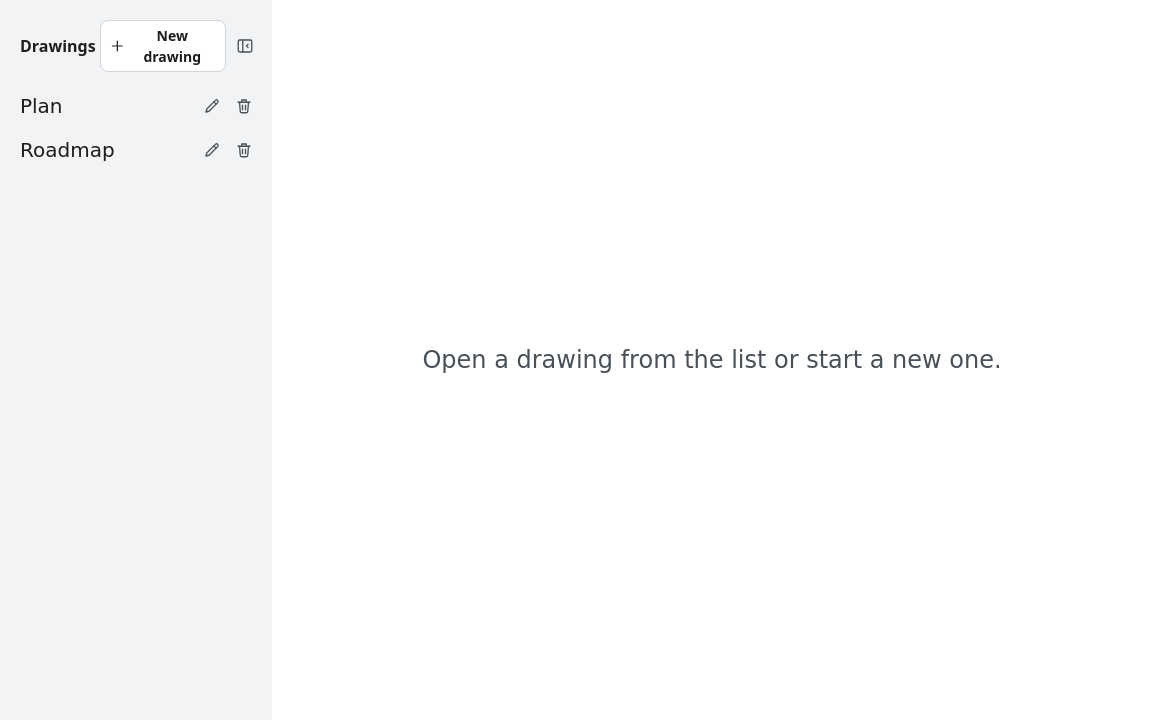
Test case: App › shows a renamed drawing under its new name
This screenshot has width=1152, height=720.
Click the button named "Rename Plan". click: (212, 106)
box: top-left (196, 90), bottom-right (228, 122)
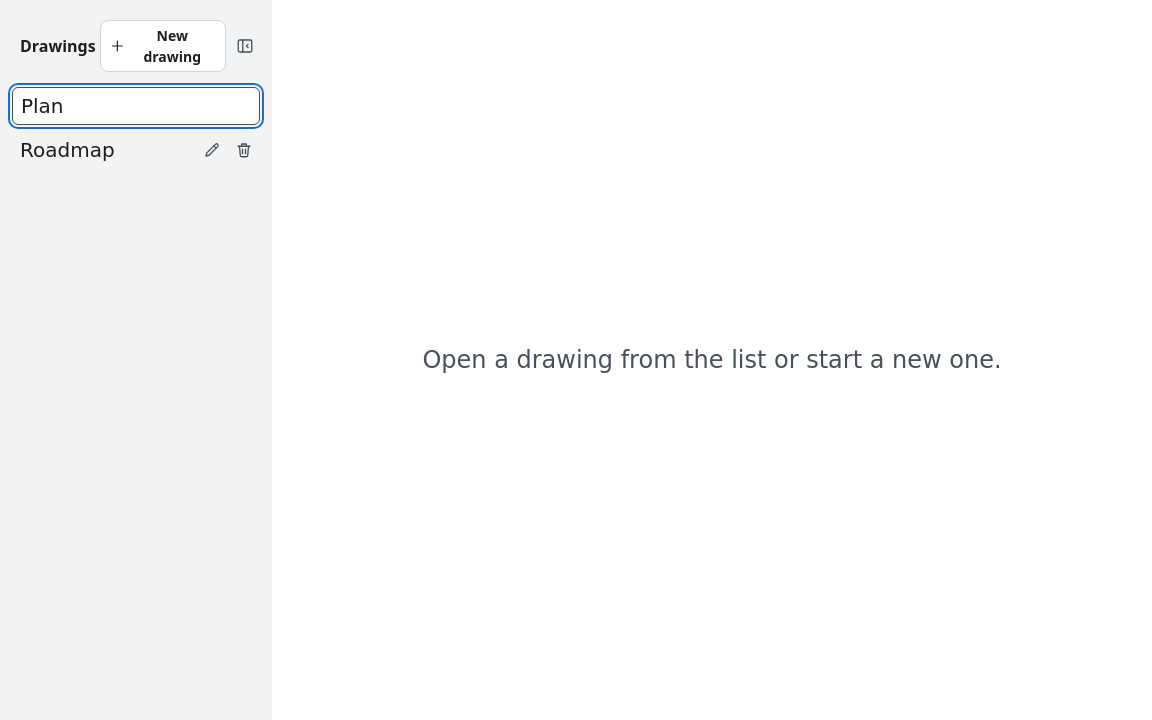
Replace the text in the field with "Sketch". click: (136, 106)
box: top-left (12, 87), bottom-right (260, 125)
Then press Enter
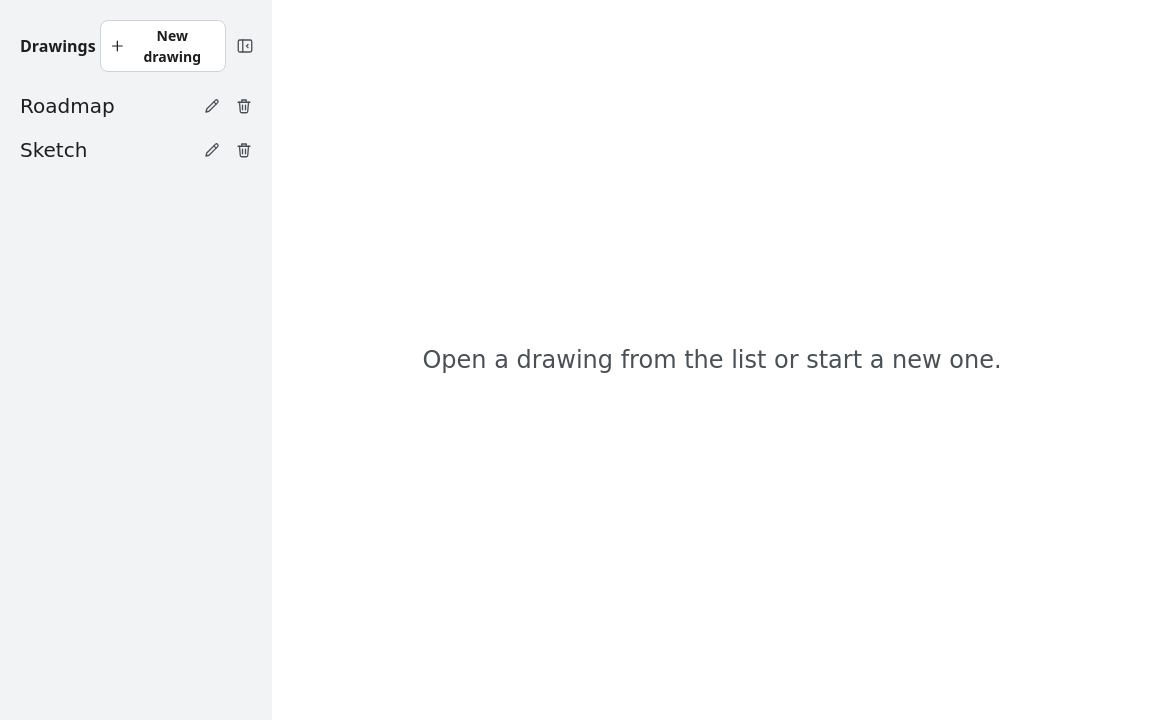
Expected: the button "Sketch" is shown, top-left (12, 132), bottom-right (196, 168)
